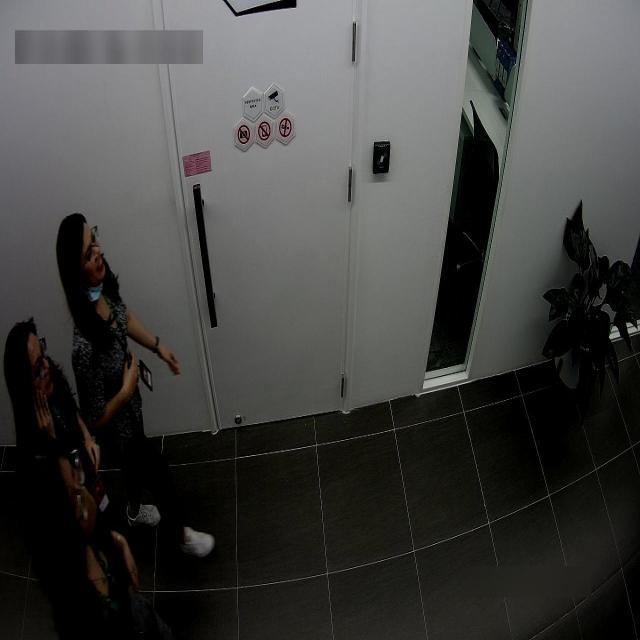hairnet: (86, 246, 114, 303)
